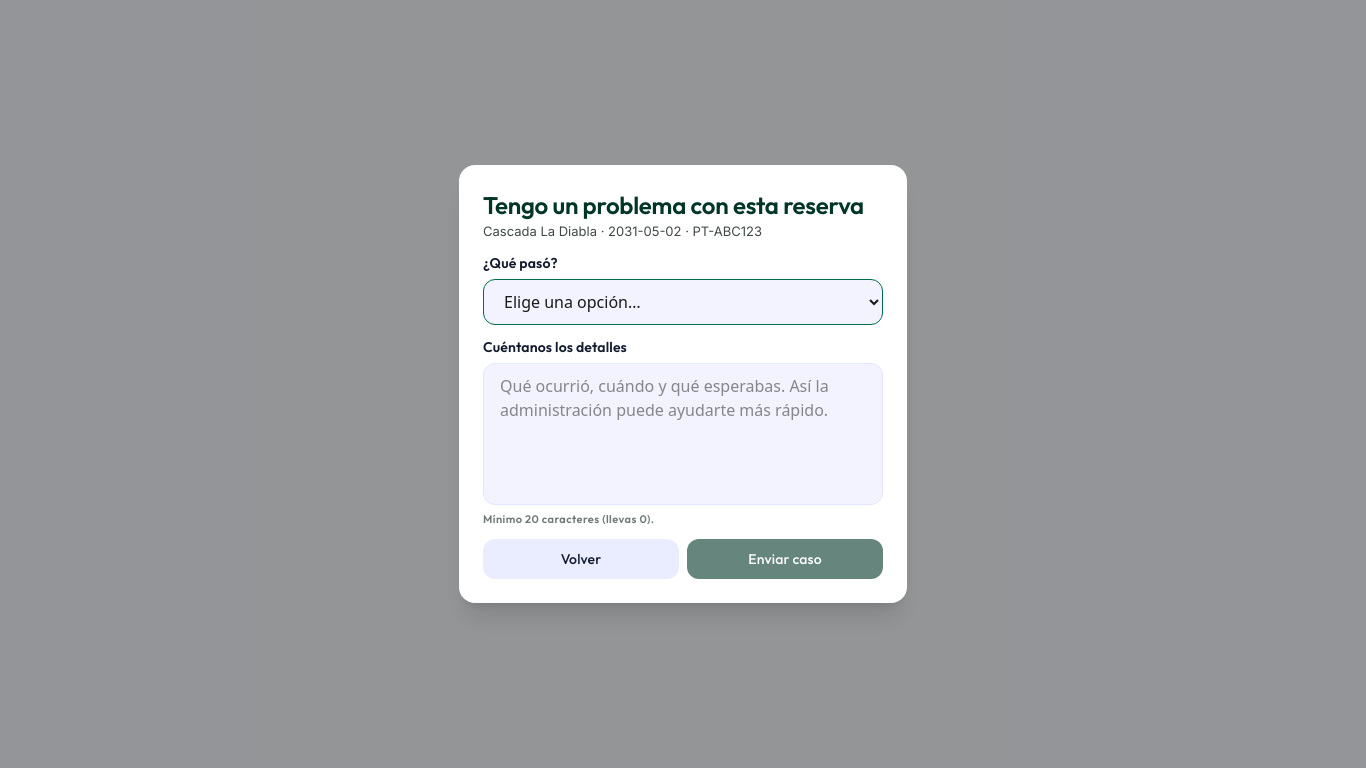
ModalProblema › no deja enviar sin motivo ni con un detalle corto, y al enviar abre el caso y confirma
The width and height of the screenshot is (1366, 768).
Expected: the button "Enviar caso" is disabled, [687, 539, 883, 579]
Select "El negocio no prestó el servicio o no se presentó" in the dropdown at coordinates (683, 302), box [483, 279, 883, 325]
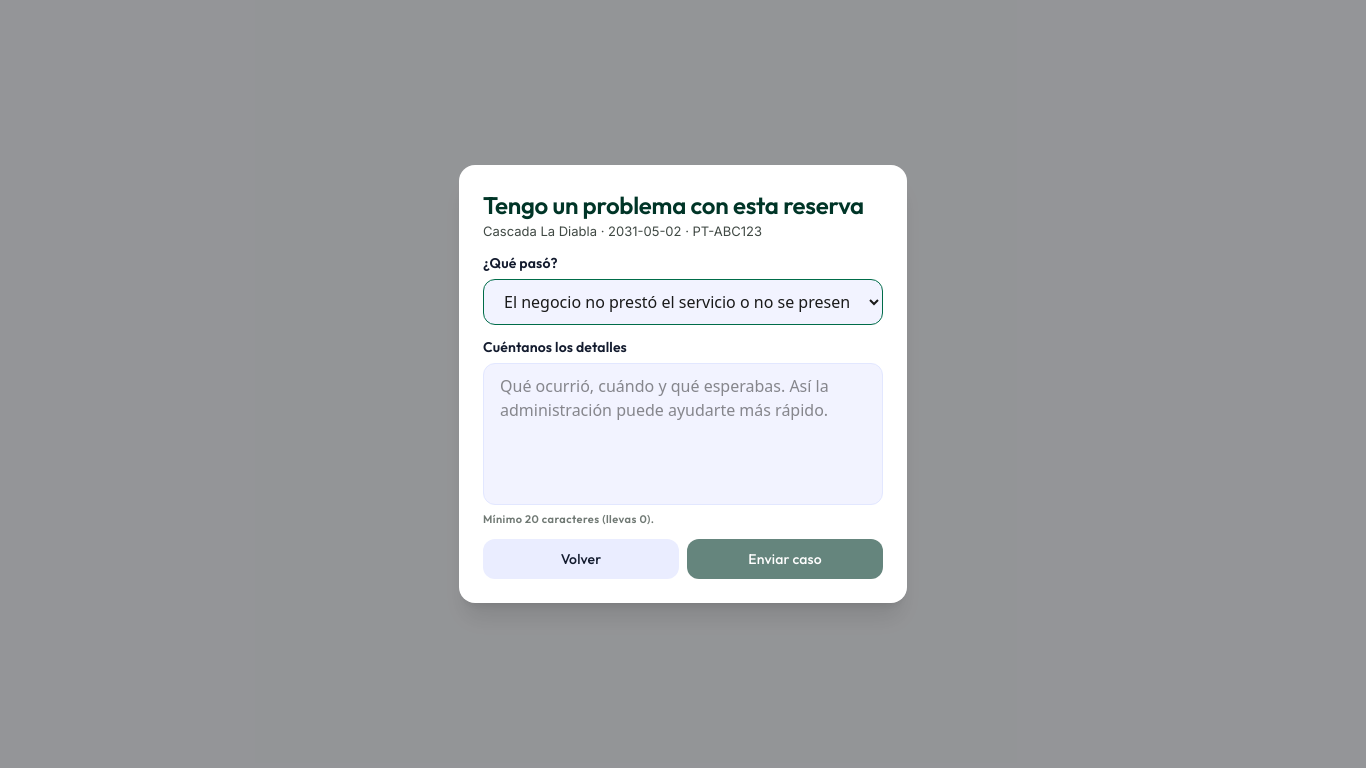
Type "muy corto" into the text box at coordinates (683, 434), box [483, 363, 883, 505]
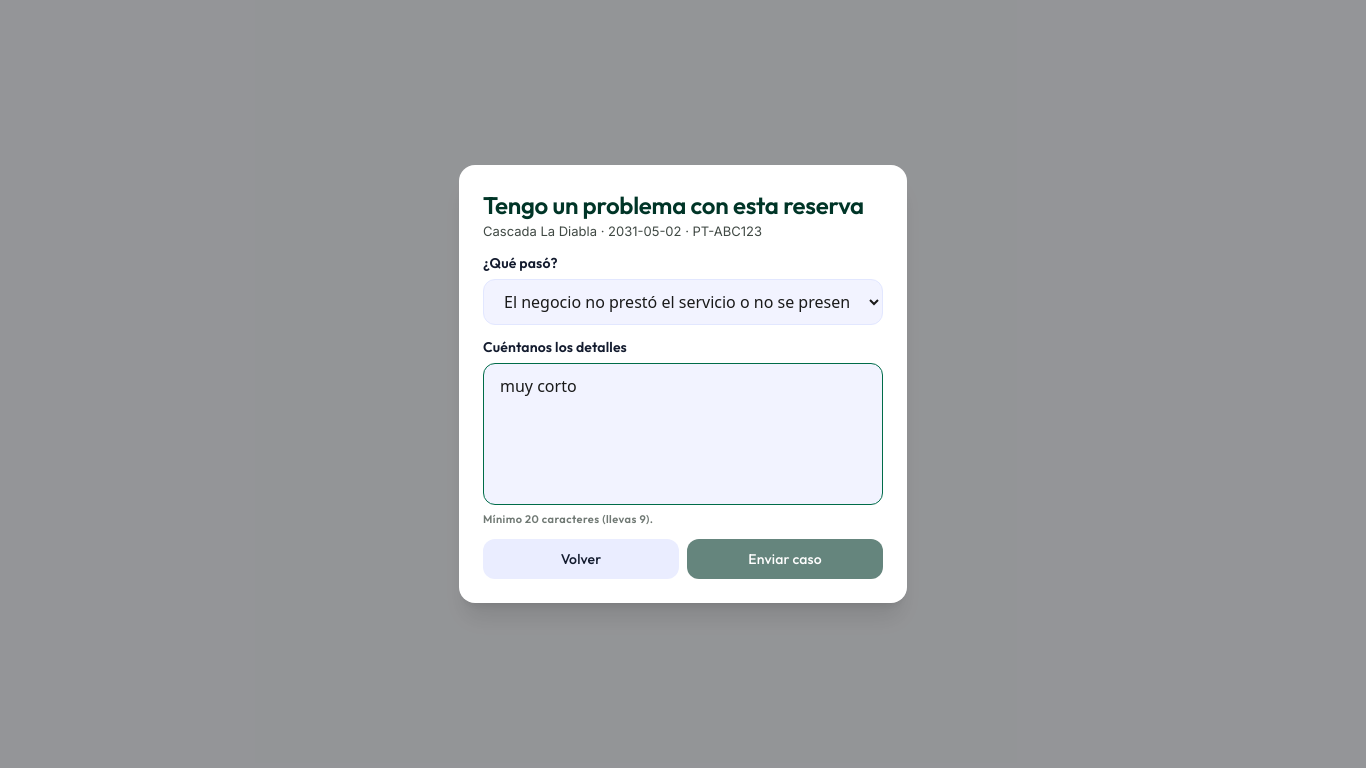
Expected: the button "Enviar caso" is disabled, [687, 539, 883, 579]
Result: the text "Mínimo 20 caracteres (llevas 9)." is shown at [483, 512, 654, 526]
Replace the text in the text box with "Llegamos a la hora y el negocio estaba cerrado." at coordinates (683, 434), box [483, 363, 883, 505]
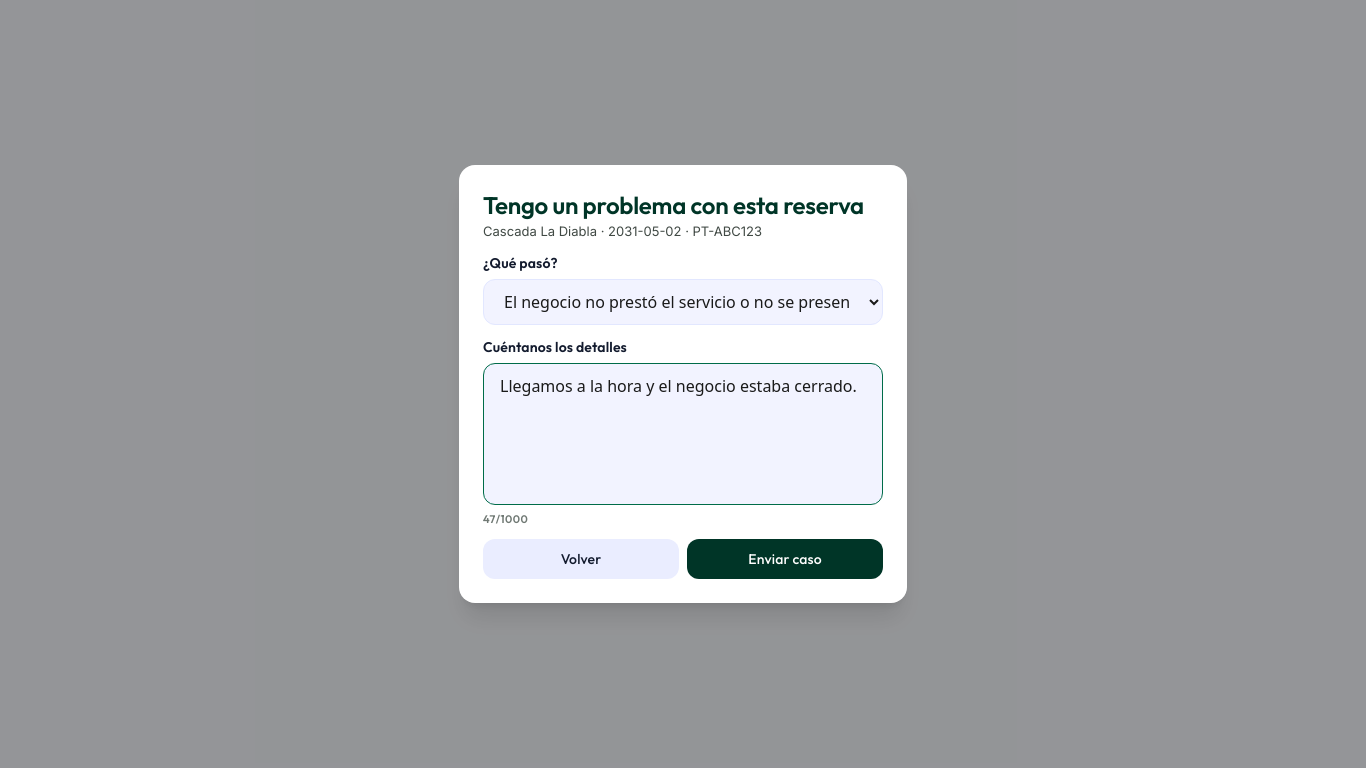
Click the button "Enviar caso" at coordinates (785, 559), box [687, 539, 883, 579]
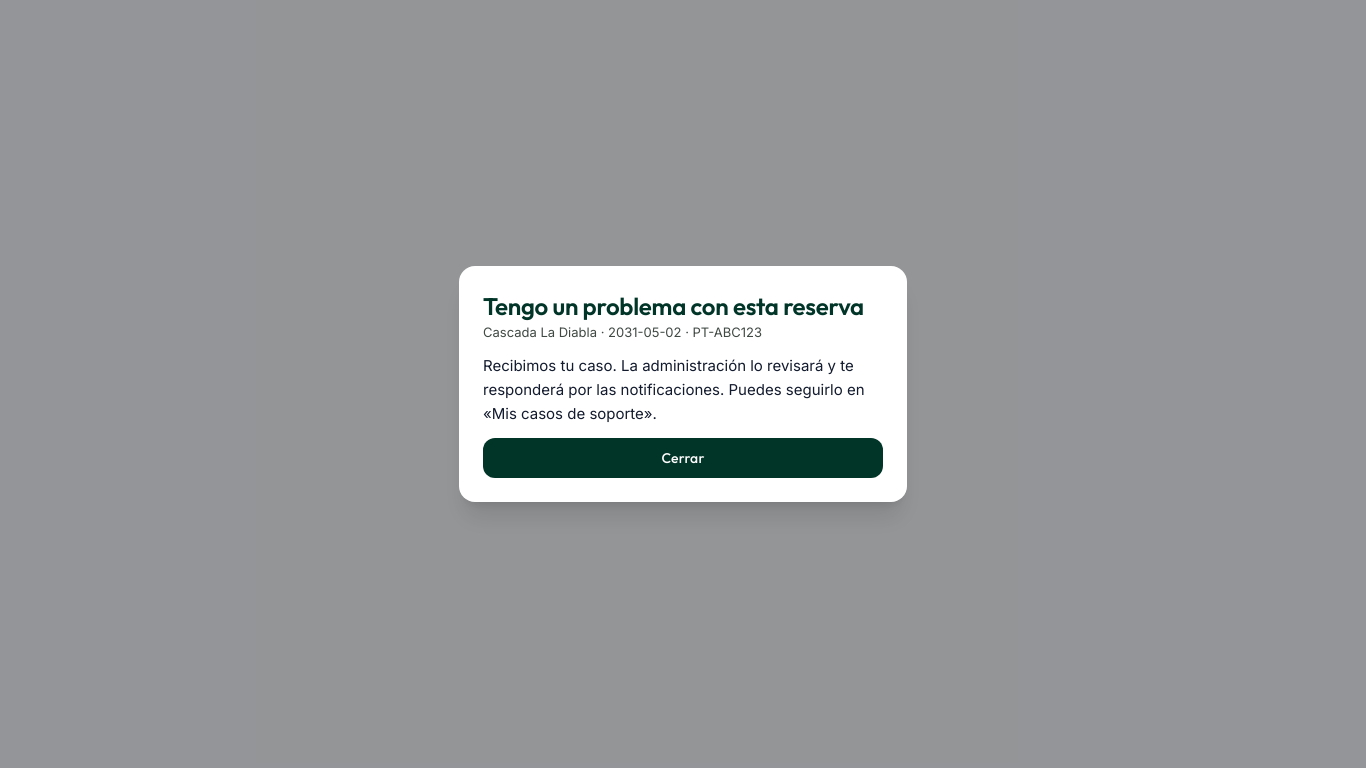
Result: the text "Recibimos tu caso" is shown at [483, 356, 864, 423]
